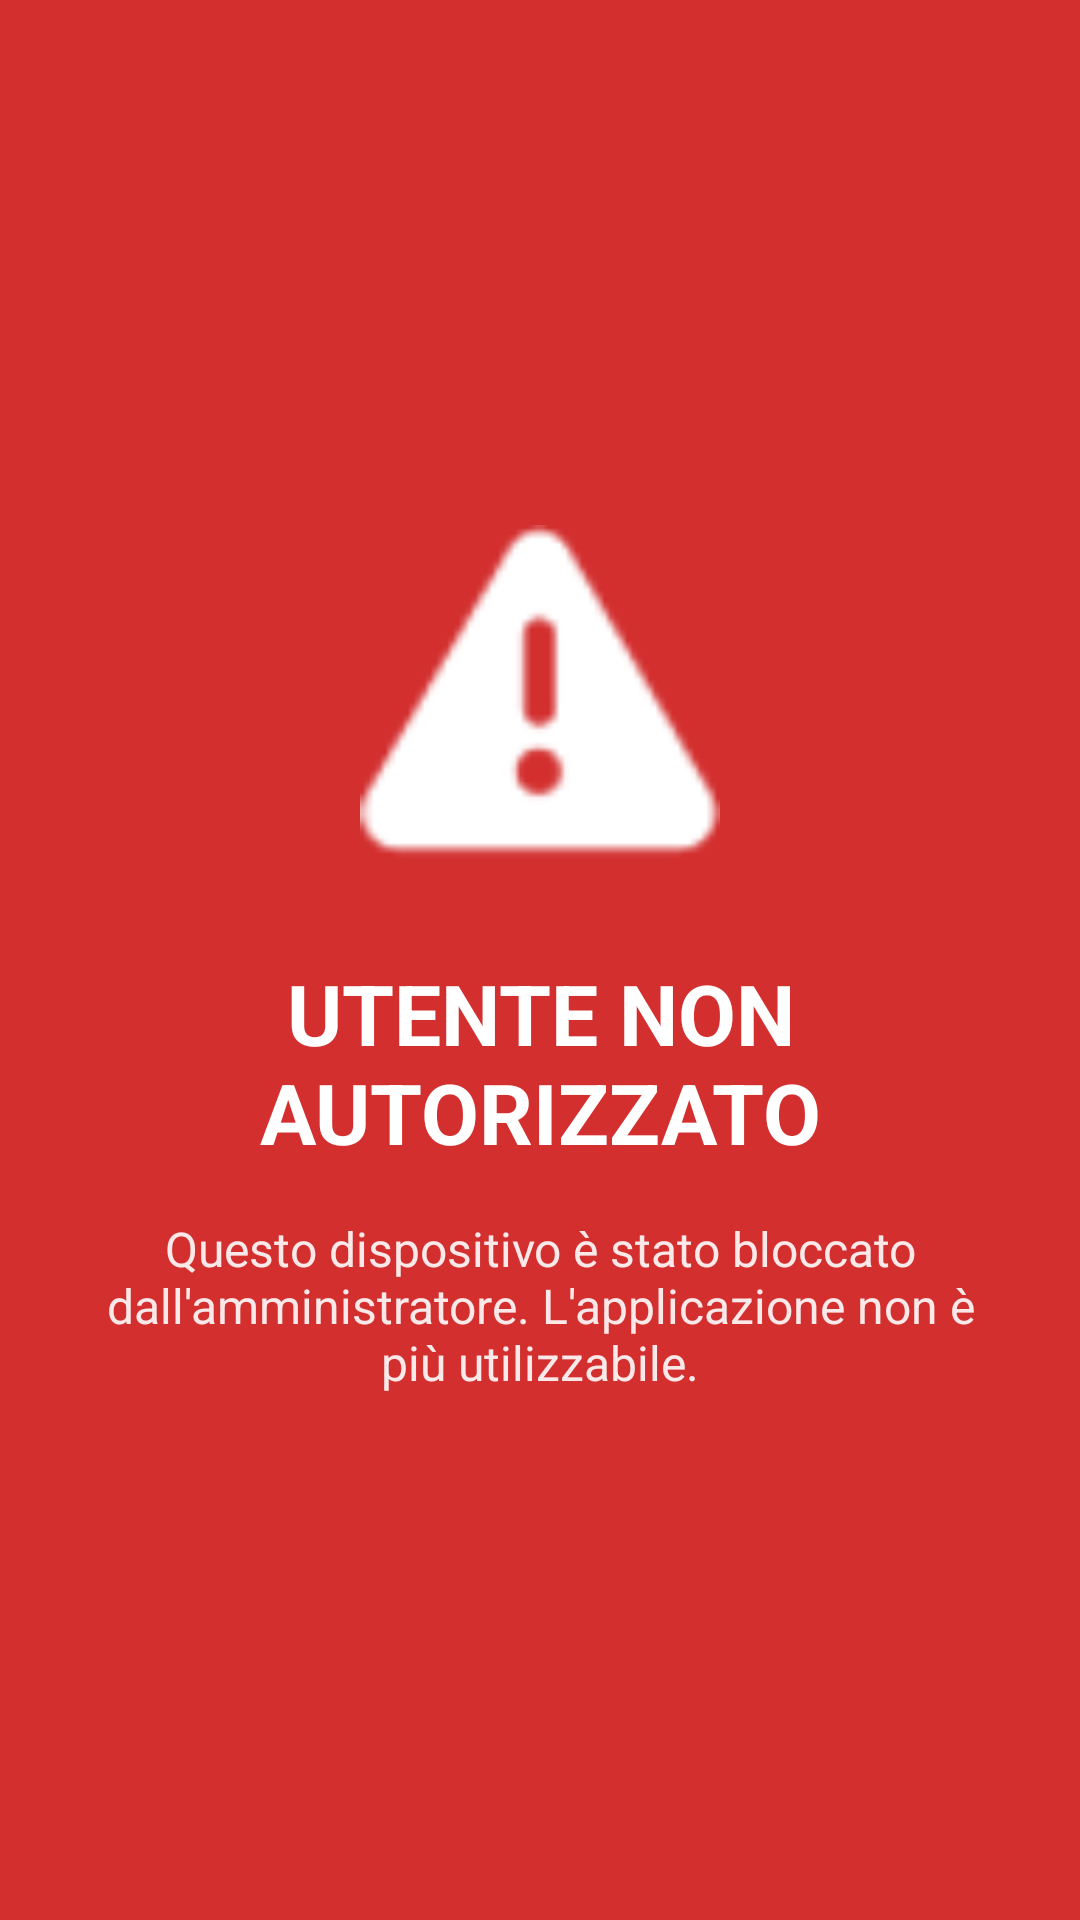

Named icons in this screenshot (1080w x 1920h) and their centers, (x,y):
alert: (540,689)
